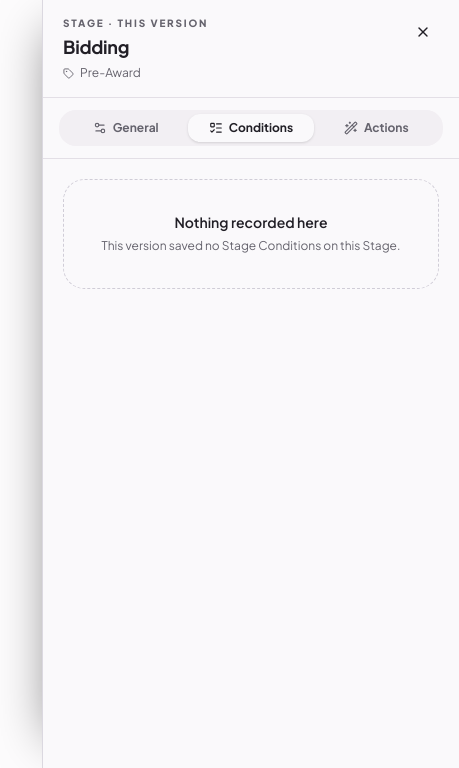
it: FlowVersionStagePanel › shows this version's Stage Actions
Step 1. Click the tab "Actions" → (376,128), box [314,114,439,142]
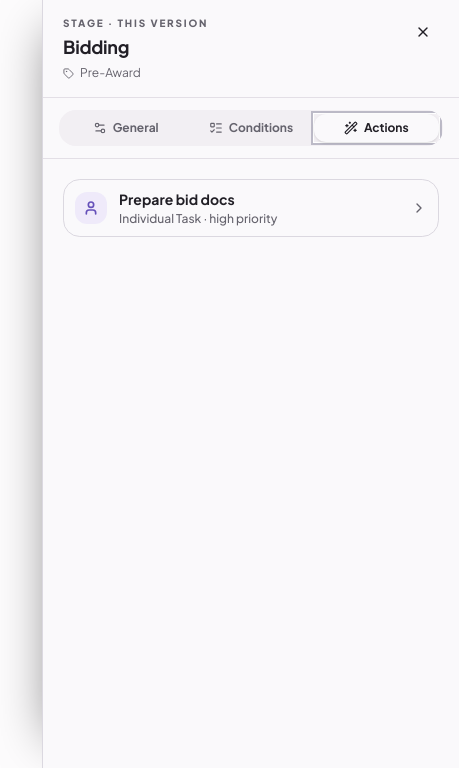
Now the text "Prepare bid docs" is shown, box [119,190,235,208]
